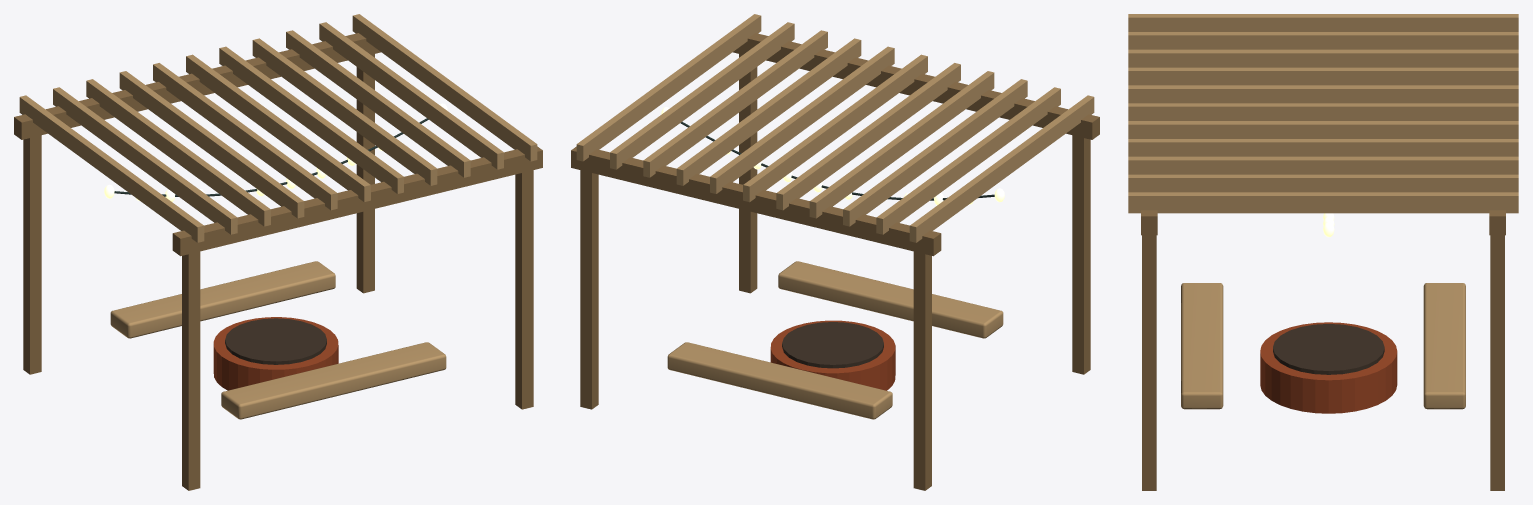
The model's file is firepit_pergola.glb.
The picture shows the model from 3 angles, left to right: view 1: azimuth 30°, elevation 25°; view 2: azimuth 150°, elevation 25°; view 3: azimuth 270°, elevation 25°; orthographic projection. The views are drawn at different scales.
Visible parts, largest first — view 1: firepit_pergola_Modřín – přírodní dřevo, firepit_pergola_Dřevo – tmavší lamely, firepit_pergola_Zahradní substrát.001, firepit_pergola_Corten #9A4624.001; view 2: firepit_pergola_Modřín – přírodní dřevo, firepit_pergola_Dřevo – tmavší lamely, firepit_pergola_Zahradní substrát.001, firepit_pergola_Corten #9A4624.001; view 3: firepit_pergola_Modřín – přírodní dřevo, firepit_pergola_Dřevo – tmavší lamely, firepit_pergola_Corten #9A4624.001, firepit_pergola_Zahradní substrát.001.
Boxes of the visible parts, <box> form: firepit_pergola_Modřín – přírodní dřevo: <box>19,14,537,419</box>; firepit_pergola_Dřevo – tmavší lamely: <box>14,33,542,490</box>; firepit_pergola_Zahradní substrát.001: <box>225,318,326,364</box>; firepit_pergola_Corten #9A4624.001: <box>213,317,338,390</box>; firepit_pergola_Modřín – přírodní dřevo: <box>576,14,1094,419</box>; firepit_pergola_Dřevo – tmavší lamely: <box>571,33,1099,490</box>; firepit_pergola_Zahradní substrát.001: <box>782,322,883,368</box>; firepit_pergola_Corten #9A4624.001: <box>770,320,895,390</box>; firepit_pergola_Modřín – přírodní dřevo: <box>1128,14,1518,409</box>; firepit_pergola_Dřevo – tmavší lamely: <box>1141,210,1505,490</box>; firepit_pergola_Corten #9A4624.001: <box>1260,322,1397,413</box>; firepit_pergola_Zahradní substrát.001: <box>1273,324,1384,374</box>.
Bounding box in the file's own units: 4.35 × 3.07 × 3.7.
